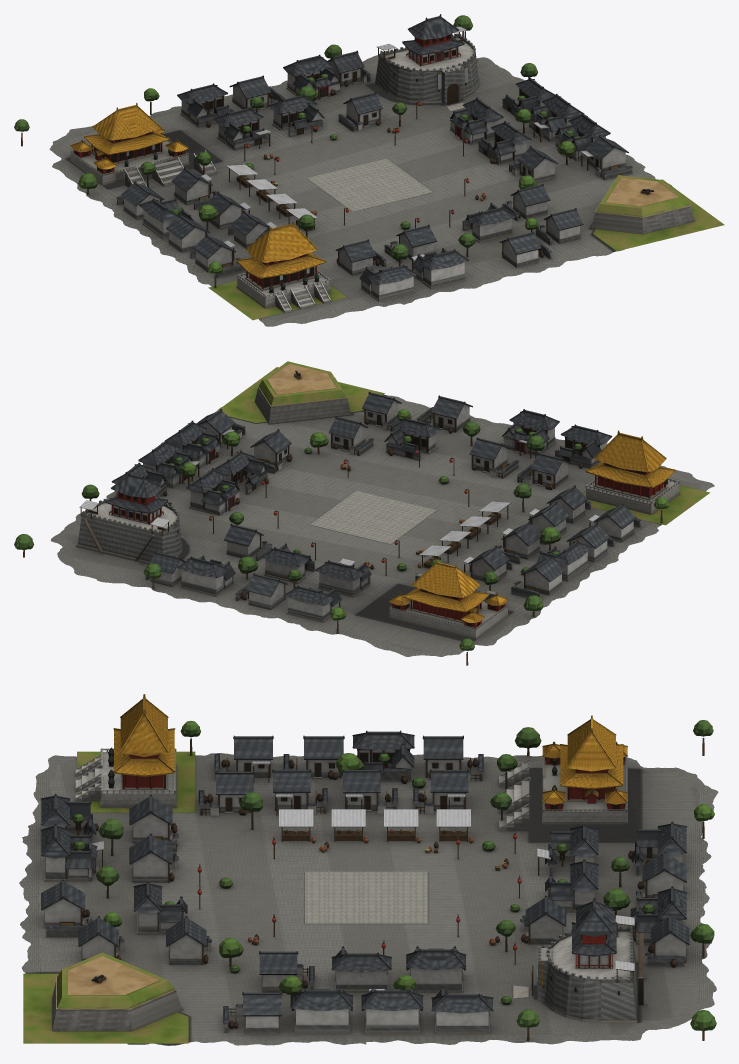
The model's file is gunpowder-town-big-b-sinic-32b5efbd.glb.
3 renders of one model, top to bottom at view 1: azimuth 30°, elevation 25°; view 2: azimuth 150°, elevation 25°; view 3: azimuth 270°, elevation 25°, orthographic. The views are drawn at different scales.
Parts seen in each view (by area): view 1: LOD0; view 2: LOD0; view 3: LOD0.
Part boxes in pixels (bbox=[...]): LOD0: bbox=[14, 14, 724, 326]; LOD0: bbox=[14, 361, 714, 665]; LOD0: bbox=[19, 694, 718, 1045].
Size of what is drawn, in the model's own units: 8.05 by 1.19 by 8.12.
3 materials, 3 textured.
